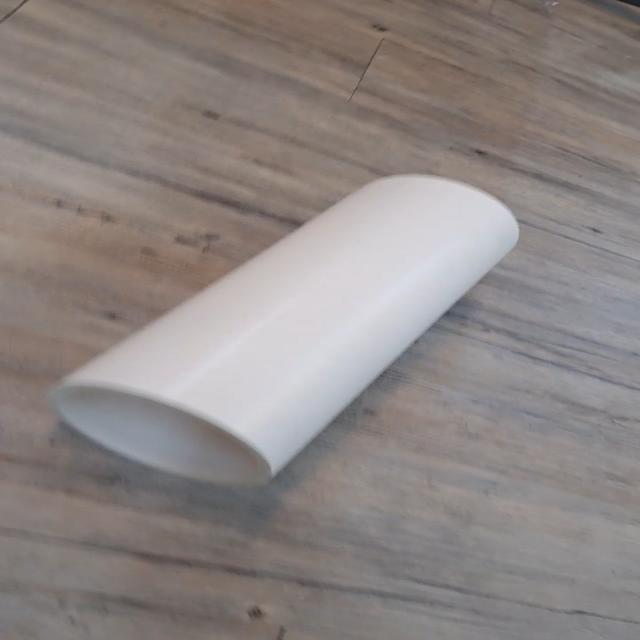CORAL: (42, 169, 532, 490)
